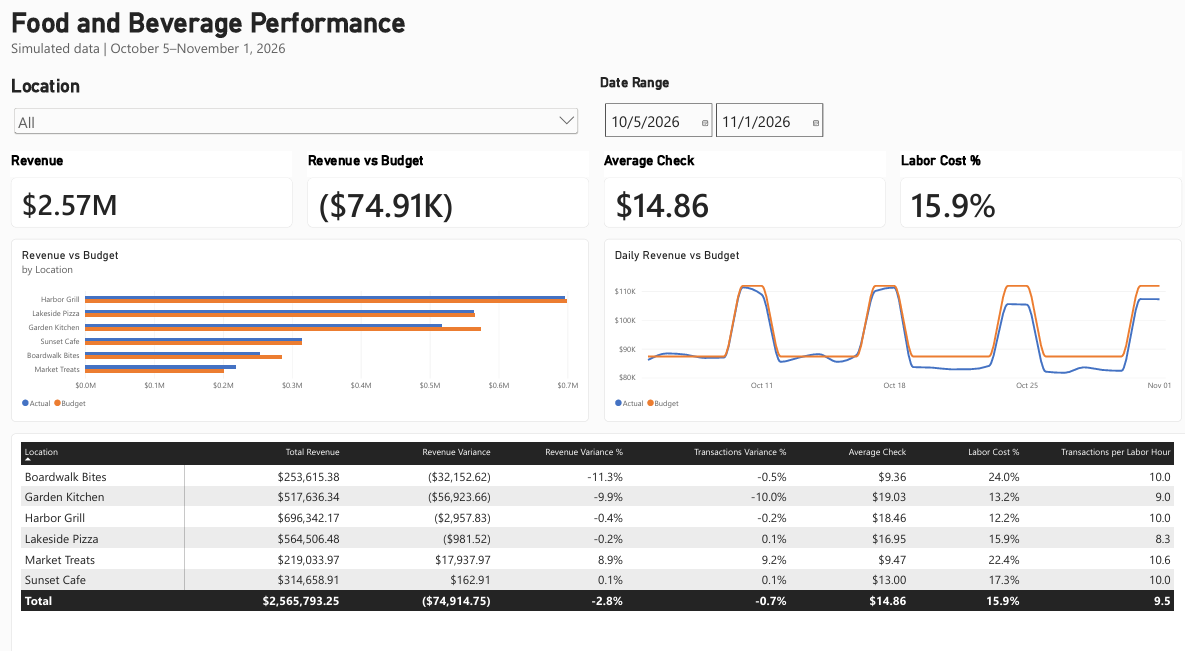

The page's visual inventory and layout, read from the dashboard file:
{"tool":"powerbi","page":{"name":"Performance Overview","canvas":[1920,1080],"ordinal":0},"visuals":[{"type":"slicer","title":"Location","fields":{"Values":["Locations.LocationName"]},"box":[30,123,906,105],"z":0},{"type":"slicer","title":"Date Range","fields":{"Values":["Calendar.Date"]},"box":[966,123,924,105],"z":1000},{"type":"cardVisual","title":"Revenue","fields":{"Data":["Actuals.Total Revenue"]},"box":[30,246,447,120],"z":2000},{"type":"textbox","title":"Food and Beverage Performance","box":[30,15,1860,93],"z":3000},{"type":"cardVisual","title":"Revenue vs Budget","fields":{"Data":["Actuals.Revenue Variance"]},"box":[501,246,447,120],"z":4000},{"type":"cardVisual","title":"Average Check","fields":{"Data":["Actuals.Average Check"]},"box":[972,246,447,120],"z":5000},{"type":"cardVisual","title":"Labor Cost %","fields":{"Data":["Actuals.Labor Cost %"]},"box":[1443,246,447,120],"z":6000},{"type":"clusteredBarChart","title":"Revenue vs Budget","fields":{"Category":["Locations.LocationName"],"Y":["Actuals.Total Revenue","Actuals.Budget Revenue"]},"box":[30,384,918,291],"z":7000},{"type":"lineChart","title":"Daily Revenue vs Budget","fields":{"Category":["Calendar.Date.Variation.Date Hierarchy.Year","Calendar.Date.Variation.Date Hierarchy.Quarter","Calendar.Date.Variation.Date Hierarchy.Month","Calendar.Date.Variation.Date Hierarchy.Day"],"Y":["Actuals.Total Revenue","Actuals.Budget Revenue"]},"box":[972,384,918,291],"z":8000},{"type":"pivotTable","fields":{"Rows":["Locations.LocationName"],"Values":["Actuals.Total Revenue","Actuals.Revenue Variance","Actuals.Revenue Variance %","Actuals.Transactions Variance %","Actuals.Average Check","Actuals.Labor Cost %","Actuals.Transactions per Labor Hour"]},"box":[30.2,692.9,1871.6,350.8],"z":9000}]}

Visuals, with their boxes in screenshot pixels (x1, y1, x2, y2), scaled from the page's 1920x1080 canvas onto the 1185x651 screenshot:
"Location" slicer: detection(19, 74, 578, 137)
"Date Range" slicer: detection(596, 74, 1166, 137)
"Revenue" cardVisual: detection(19, 148, 294, 221)
"Food and Beverage Performance" textbox: detection(19, 9, 1166, 65)
"Revenue vs Budget" cardVisual: detection(309, 148, 585, 221)
"Average Check" cardVisual: detection(600, 148, 876, 221)
"Labor Cost %" cardVisual: detection(891, 148, 1166, 221)
"Revenue vs Budget" clusteredBarChart: detection(19, 231, 585, 407)
"Daily Revenue vs Budget" lineChart: detection(600, 231, 1166, 407)
pivotTable - Locations.LocationName x Actuals.Total Revenue: detection(19, 418, 1174, 629)
